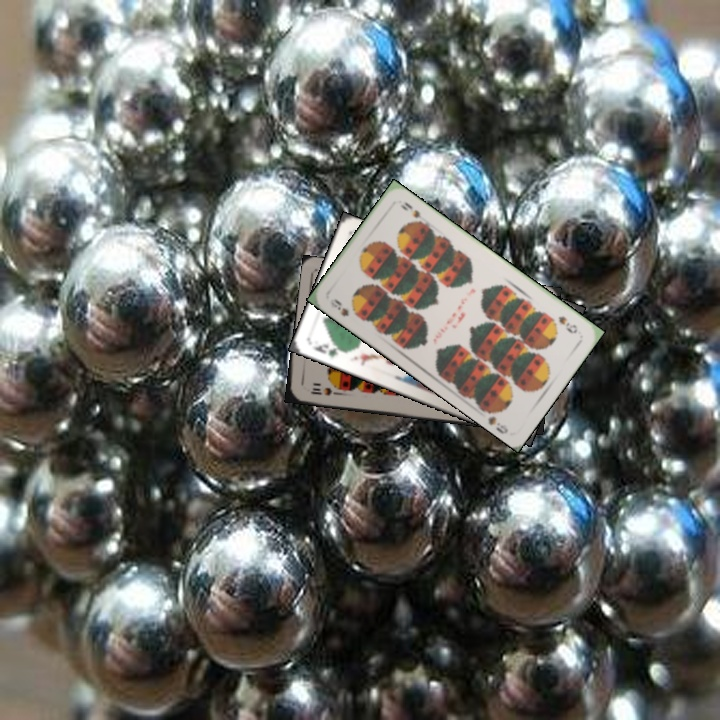GK: (309, 339, 347, 360)
S10: (306, 383, 341, 398)
S9: (326, 295, 362, 320), (554, 312, 580, 336)
